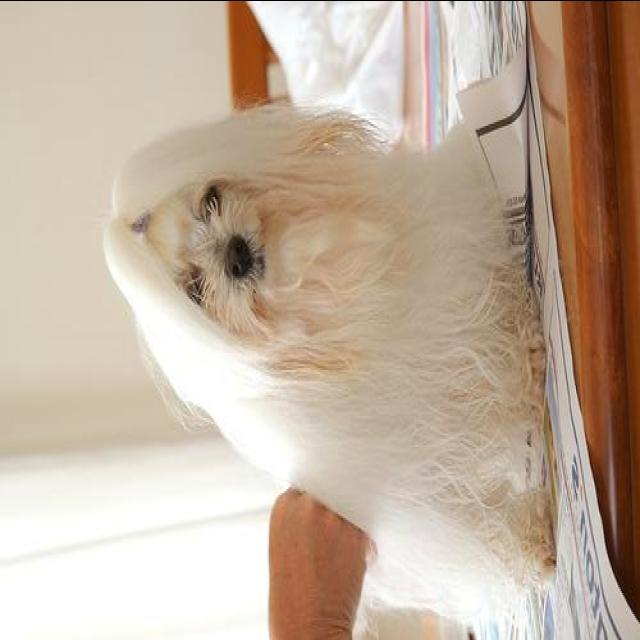maltese_dog: (100, 100, 572, 632)
